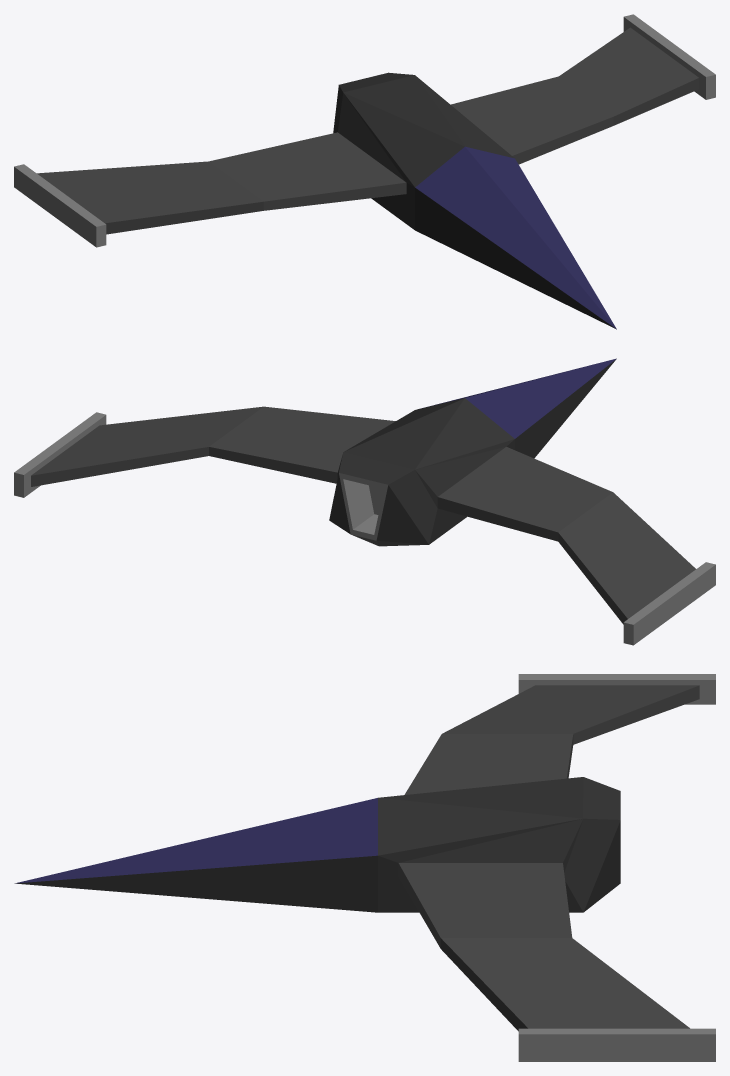
The model's file is spaceship.obj.
3 views of the same model, one above another, from view 1: azimuth 30°, elevation 25°; view 2: azimuth 150°, elevation 25°; view 3: azimuth 270°, elevation 25° (orthographic). The views are drawn at different scales.
Parts seen in each view (by area): view 1: Cube_Cube.001; view 2: Cube_Cube.001; view 3: Cube_Cube.001.
Part boxes in pixels (left/top/right/bottom): Cube_Cube.001: left=14, top=14, right=715, bottom=329; Cube_Cube.001: left=14, top=358, right=715, bottom=645; Cube_Cube.001: left=14, top=674, right=715, bottom=1061.
Size of the model in its own units: 12.4 by 1.63 by 10.17.
Materials: 4 (4 with a texture image).
